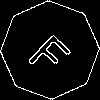F: (25, 25, 79, 80)
